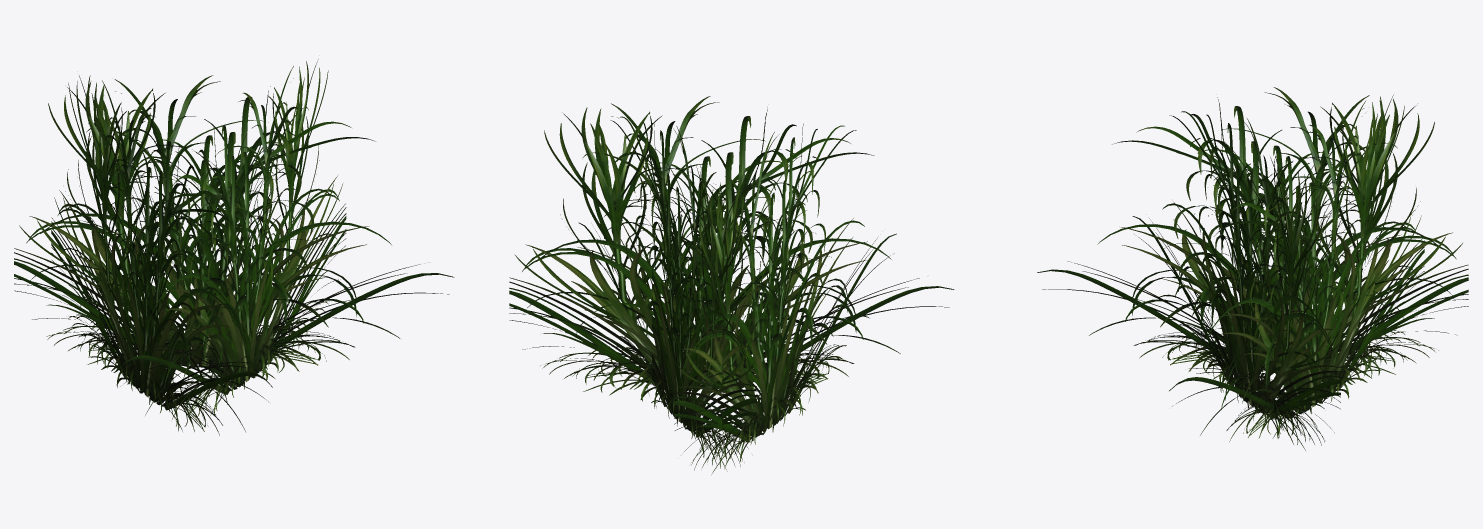
File: grass_1.fbx
3 views of the same model, side by side, from view 1: azimuth 30°, elevation 25°; view 2: azimuth 150°, elevation 25°; view 3: azimuth 270°, elevation 25° (orthographic). The views are drawn at different scales.
Visible parts, largest first — view 1: Grass_1; view 2: Grass_1; view 3: Grass_1.
Boxes of the visible parts, bbox=[...] form: Grass_1: bbox=[14, 59, 454, 435]; Grass_1: bbox=[509, 96, 954, 474]; Grass_1: bbox=[1037, 87, 1468, 450].
Bounding box in the file's own units: 102 × 79.56 × 106.
3 materials, 3 textured.
